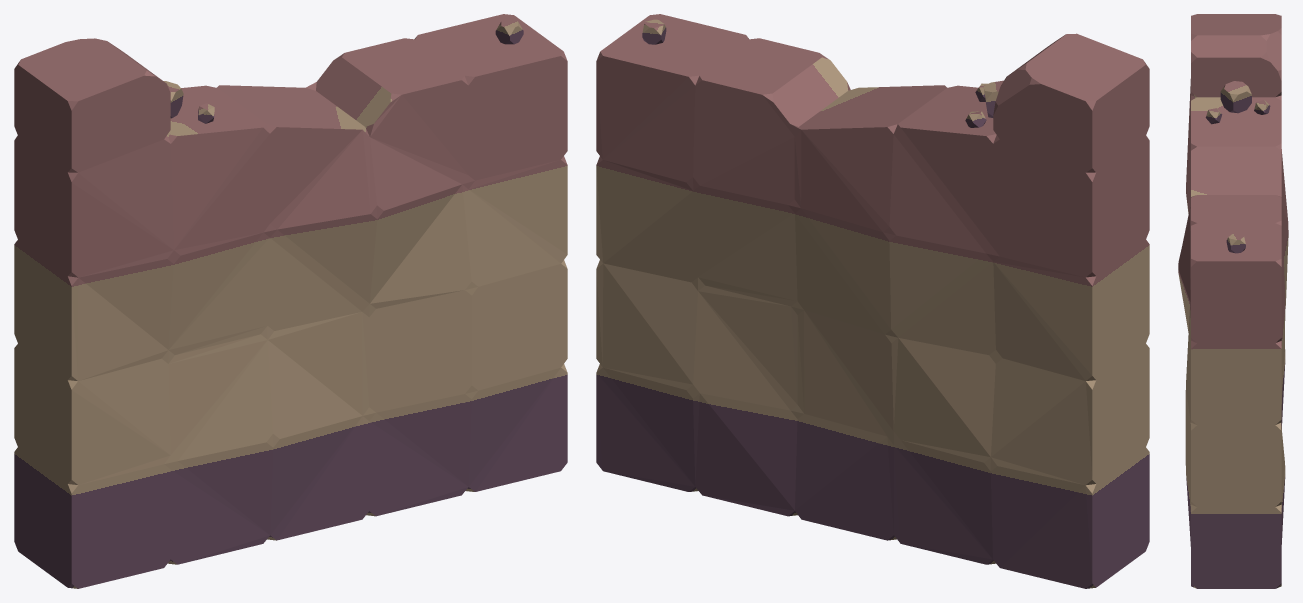
Rendered from Wall 3.002.fbx.
3 views of the same model, side by side, from view 1: azimuth 30°, elevation 25°; view 2: azimuth 150°, elevation 25°; view 3: azimuth 270°, elevation 25° (orthographic). The views are drawn at different scales.
Visible parts, largest first — view 1: Wall 3.002; view 2: Wall 3.002; view 3: Wall 3.002.
Part boxes in pixels (left/top/right/bottom): Wall 3.002: left=14, top=14, right=567, bottom=588; Wall 3.002: left=596, top=14, right=1149, bottom=588; Wall 3.002: left=1178, top=14, right=1288, bottom=588.
Size of the model in its own units: 500 by 480 by 122.
